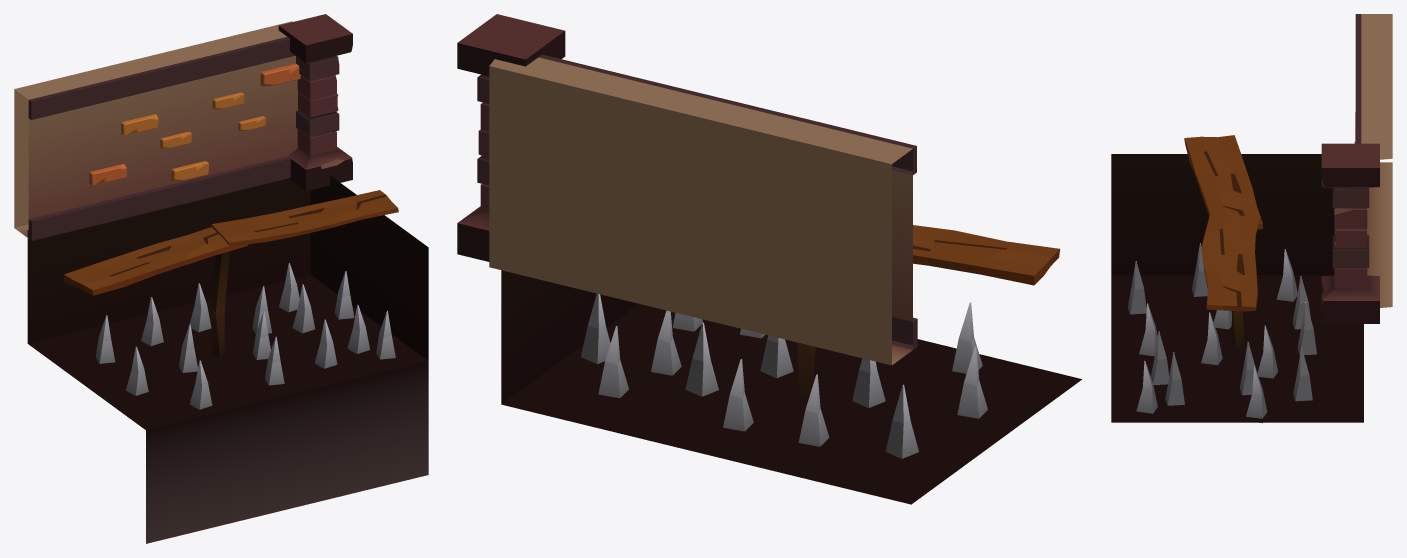
Rendered from Spears_Env.fbx.
3 views of the same model, side by side, from view 1: azimuth 30°, elevation 25°; view 2: azimuth 150°, elevation 25°; view 3: azimuth 270°, elevation 25° (orthographic). The views are drawn at different scales.
Visible parts, largest first — view 1: Spears_Env; view 2: Spears_Env; view 3: Spears_Env.
Part boxes in pixels (x1=…): Spears_Env: x1=14, y1=14, x2=428, y2=543; Spears_Env: x1=457, y1=14, x2=1081, y2=504; Spears_Env: x1=1111, y1=14, x2=1392, y2=423.
Bounding box in the file's own units: 8.17 × 8.59 × 5.64.
